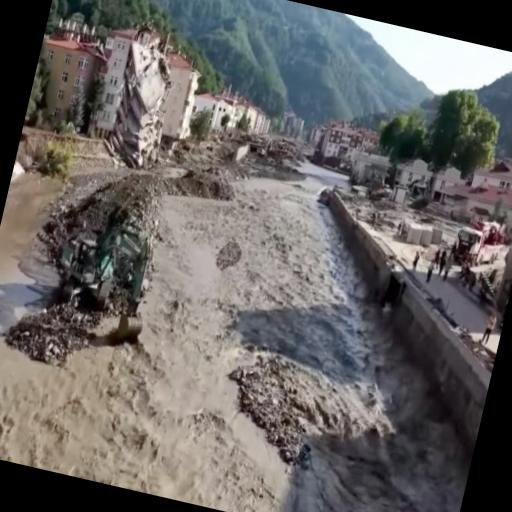flood: (0, 178, 62, 284), (0, 340, 43, 383)
house: (22, 23, 106, 141), (90, 22, 160, 140), (306, 111, 392, 190), (148, 46, 208, 142), (202, 89, 256, 138), (468, 151, 512, 205)
